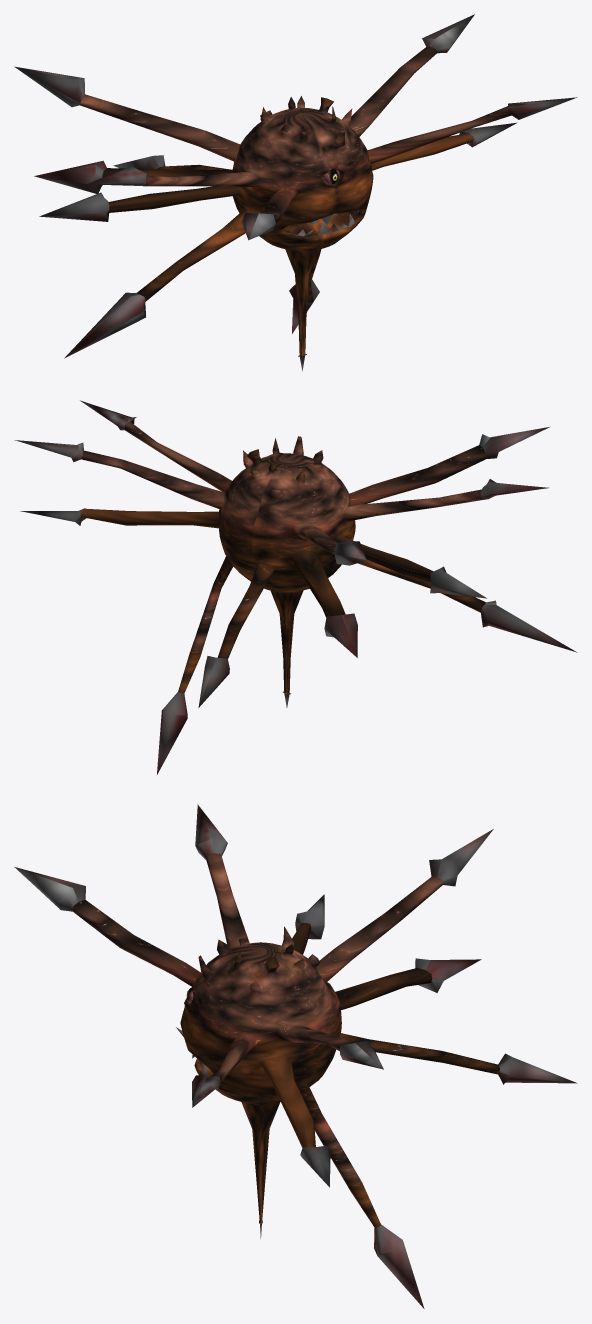
Rendered from beholder.obj.
3 renders of one model, top to bottom at view 1: azimuth 30°, elevation 25°; view 2: azimuth 150°, elevation 25°; view 3: azimuth 270°, elevation 25°, orthographic. The views are drawn at different scales.
Parts seen in each view (by area): view 1: Sphere; view 2: Sphere; view 3: Sphere.
Part boxes in pixels (bbox=[...]): Sphere: bbox=[14, 14, 577, 371]; Sphere: bbox=[14, 400, 577, 774]; Sphere: bbox=[14, 804, 577, 1308].
Bounding box in the file's own units: 2.55 × 1.44 × 2.14.
